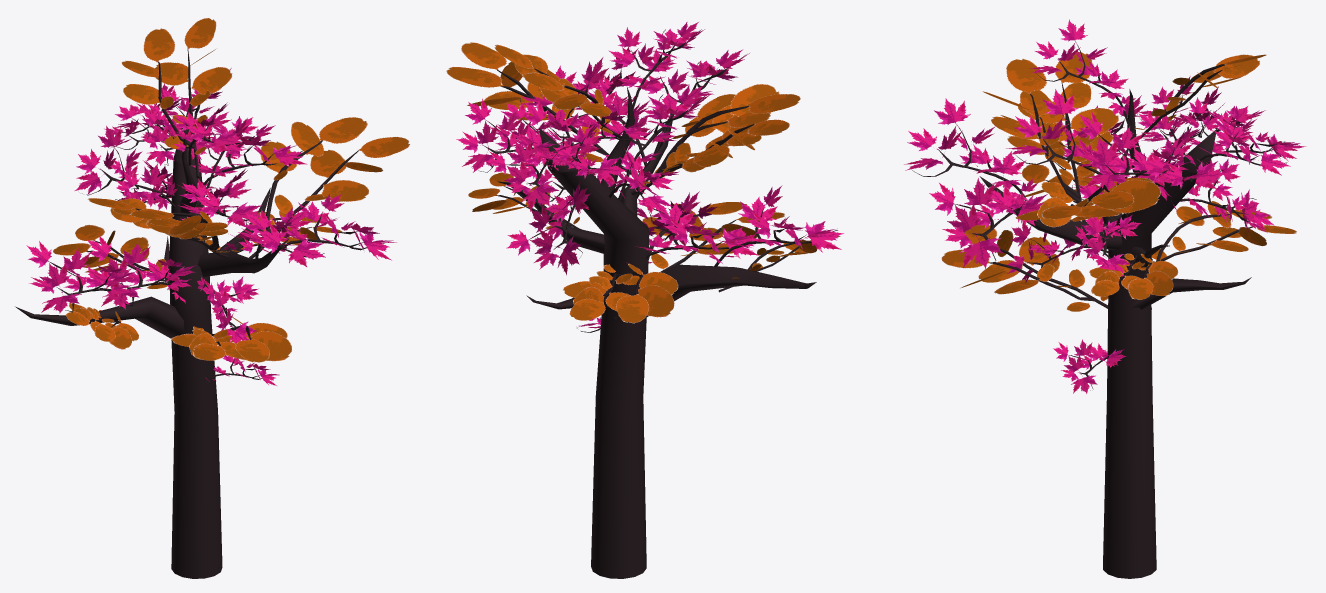
The model's file is tree2.fbx.
The picture shows the model from 3 angles, left to right: view 1: azimuth 30°, elevation 25°; view 2: azimuth 150°, elevation 25°; view 3: azimuth 270°, elevation 25°; orthographic projection. The views are drawn at different scales.
Parts seen in each view (by area): view 1: pCylinder116; view 2: pCylinder116; view 3: pCylinder116.
Part boxes in pixels (x1,y1,x2,y2): pCylinder116: (15,18,409,578); pCylinder116: (446,22,844,578); pCylinder116: (904,19,1306,578).
Bounding box in the file's own units: 21 × 26.89 × 19.31.
